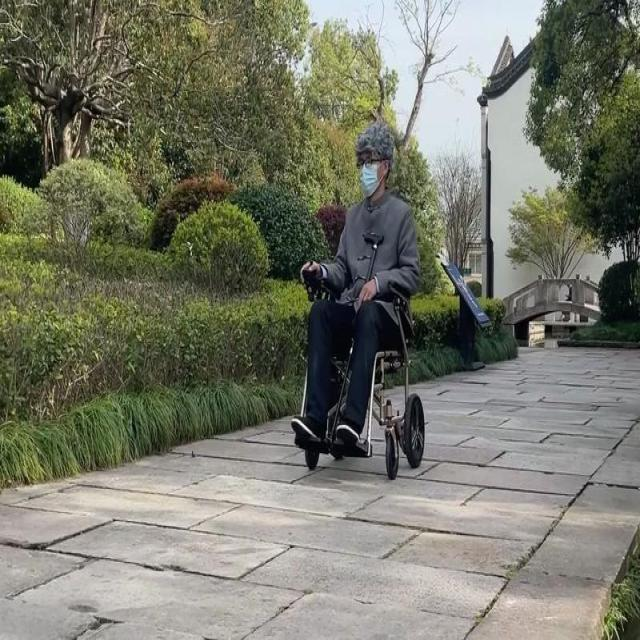wheelchairs: (284, 258, 434, 476)
